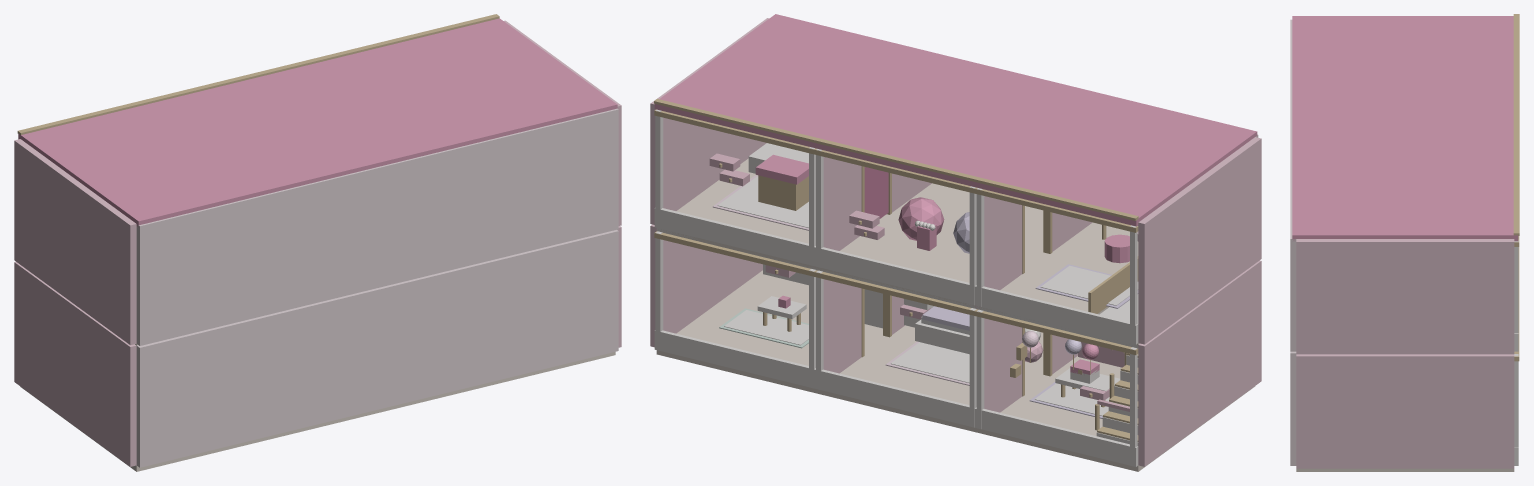
Rendered from house-vvip.glb.
The picture shows the model from 3 angles, left to right: view 1: azimuth 30°, elevation 25°; view 2: azimuth 150°, elevation 25°; view 3: azimuth 270°, elevation 25°; orthographic projection. The views are drawn at different scales.
Visible parts, largest first — view 1: WALL_BACK_01, WALL_BACK_UPPER_01, ROOF_TRIM_01, WALL_BACK_02, WALL_BACK_03, WALL_BACK_UPPER_03, WALL_BACK_UPPER_02, ROOF_TRIM_02, ROOF_TRIM_03, WALL_LEFT_UPPER, WALL_LEFT_GROUND, ROOF_GOLD_LINE_01 (+6 smaller); view 2: ROOF_TRIM_01, ROOF_TRIM_03, ROOF_TRIM_02, WALL_LEFT_UPPER, WALL_LEFT_GROUND, FLOOR_UPPER_02, WALL_RIGHT_GROUND, WALL_RIGHT_UPPER, FLOOR_03, FLOOR_02, FLOOR_UPPER_RIGHT, FLOOR_01 (+51 smaller); view 3: WALL_RIGHT_UPPER, WALL_RIGHT_GROUND, ROOF_TRIM_03, ROOF_TRIM_02, ROOF_TRIM_01, WALL_BACK_UPPER_03, FLOOR_03, WALL_BACK_03, ROOF_GOLD_LINE_03, ROOF_GOLD_LINE_02, ROOF_GOLD_LINE_01, FRONT_COLUMN_03_1 (+1 smaller).
Boxes of the visible parts, <box> form: WALL_BACK_01: <box>136,307,299,467</box>; WALL_BACK_UPPER_01: <box>136,186,299,345</box>; ROOF_TRIM_01: <box>18,96,298,227</box>; WALL_BACK_02: <box>298,269,458,428</box>; WALL_BACK_03: <box>457,230,618,389</box>; WALL_BACK_UPPER_03: <box>458,108,618,267</box>; WALL_BACK_UPPER_02: <box>298,147,458,306</box>; ROOF_TRIM_02: <box>180,57,457,186</box>; ROOF_TRIM_03: <box>340,18,617,147</box>; WALL_LEFT_UPPER: <box>14,139,136,345</box>; WALL_LEFT_GROUND: <box>14,261,136,466</box>; ROOF_GOLD_LINE_01: <box>17,92,180,134</box>; ROOF_TRIM_01: <box>975,92,1257,226</box>; ROOF_TRIM_03: <box>654,14,935,147</box>; ROOF_TRIM_02: <box>815,53,1095,187</box>; WALL_LEFT_UPPER: <box>1138,137,1261,344</box>; WALL_LEFT_GROUND: <box>1138,260,1261,466</box>; FLOOR_UPPER_02: <box>817,183,1046,307</box>; WALL_RIGHT_GROUND: <box>650,224,762,347</box>; WALL_RIGHT_UPPER: <box>650,18,768,224</box>; FLOOR_03: <box>656,270,885,393</box>; FLOOR_02: <box>817,325,1046,432</box>; FLOOR_UPPER_RIGHT: <box>979,222,1138,330</box>; FLOOR_01: <box>978,356,1255,471</box>; WALL_RIGHT_UPPER: <box>1296,239,1514,354</box>; WALL_RIGHT_GROUND: <box>1296,354,1514,468</box>; ROOF_TRIM_03: <box>1292,162,1518,241</box>; ROOF_TRIM_02: <box>1292,89,1513,162</box>; ROOF_TRIM_01: <box>1292,16,1513,88</box>; WALL_BACK_UPPER_03: <box>1290,166,1296,351</box>; FLOOR_03: <box>1296,468,1514,471</box>; WALL_BACK_03: <box>1290,351,1296,465</box>; ROOF_GOLD_LINE_03: <box>1513,160,1519,235</box>; ROOF_GOLD_LINE_02: <box>1513,87,1519,160</box>; ROOF_GOLD_LINE_01: <box>1513,14,1519,86</box>; FRONT_COLUMN_03_1: <box>1514,354,1518,447</box>.
Bounding box in the file's own units: 14.16 × 7 × 6.1.
